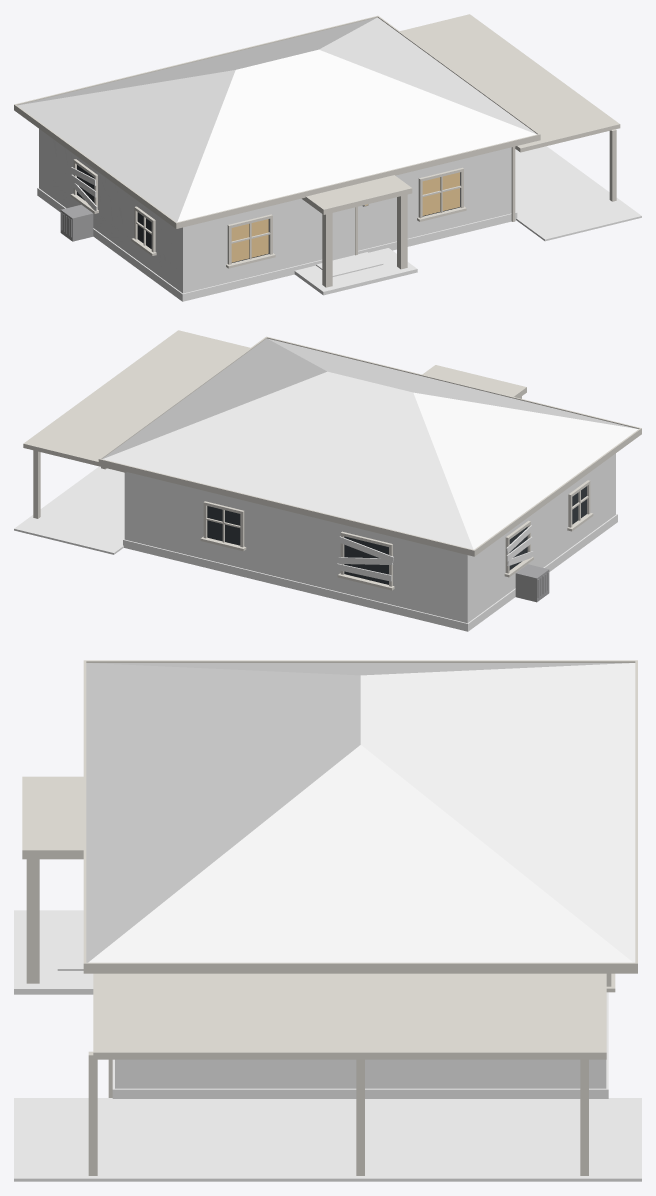
Rendered from house_hostage.glb.
The picture shows the model from 3 angles, top to bottom: view 1: azimuth 30°, elevation 25°; view 2: azimuth 150°, elevation 25°; view 3: azimuth 270°, elevation 25°; orthographic projection. The views are drawn at different scales.
Parts seen in each view (by area): view 1: house_hostage_roof, house_hostage_walls, house_hostage_carport, house_hostage_slab, house_hostage_fascia, house_hostage_portico, house_hostage_base, house_hostage_trim, house_hostage_porch, house_hostage_glow1, house_hostage_glow0, house_hostage_door (+4 smaller); view 2: house_hostage_roof, house_hostage_walls, house_hostage_carport, house_hostage_slab, house_hostage_fascia, house_hostage_base, house_hostage_trim, house_hostage_glass, house_hostage_woodold, house_hostage_portico, house_hostage_ac; view 3: house_hostage_roof, house_hostage_slab, house_hostage_carport, house_hostage_walls, house_hostage_fascia, house_hostage_portico, house_hostage_base, house_hostage_porch, house_hostage_step.
Part boxes in pixels (<box>): house_hostage_roof: <box>17,17,536,222</box>; house_hostage_walls: <box>39,129,511,293</box>; house_hostage_carport: <box>400,14,620,201</box>; house_hostage_slab: <box>515,146,641,241</box>; house_hostage_fascia: <box>14,15,540,228</box>; house_hostage_portico: <box>302,175,412,287</box>; house_hostage_base: <box>37,187,517,301</box>; house_hostage_trim: <box>70,159,466,268</box>; house_hostage_porch: <box>294,248,417,295</box>; house_hostage_glow1: <box>422,172,459,215</box>; house_hostage_glow0: <box>231,219,268,262</box>; house_hostage_door: <box>332,207,354,260</box>; house_hostage_roof: <box>102,338,638,549</box>; house_hostage_walls: <box>124,453,615,623</box>; house_hostage_carport: <box>23,330,250,518</box>; house_hostage_slab: <box>14,466,124,554</box>; house_hostage_fascia: <box>98,336,641,556</box>; house_hostage_base: <box>123,514,617,631</box>; house_hostage_trim: <box>200,480,593,590</box>; house_hostage_glass: <box>207,486,586,584</box>; house_hostage_woodold: <box>337,525,533,581</box>; house_hostage_portico: <box>422,365,526,398</box>; house_hostage_ac: <box>515,564,549,602</box>; house_hostage_roof: <box>86,663,635,962</box>; house_hostage_slab: <box>14,1098,641,1181</box>; house_hostage_carport: <box>88,973,606,1175</box>; house_hostage_walls: <box>115,1059,606,1088</box>; house_hostage_fascia: <box>83,660,637,973</box>; house_hostage_portico: <box>22,776,83,983</box>; house_hostage_base: <box>112,992,608,1098</box>; house_hostage_porch: <box>14,910,93,994</box>; house_hostage_step: <box>57,926,83,970</box>.
Bounding box in the file's own units: 16.39 × 5.11 × 11.5.
